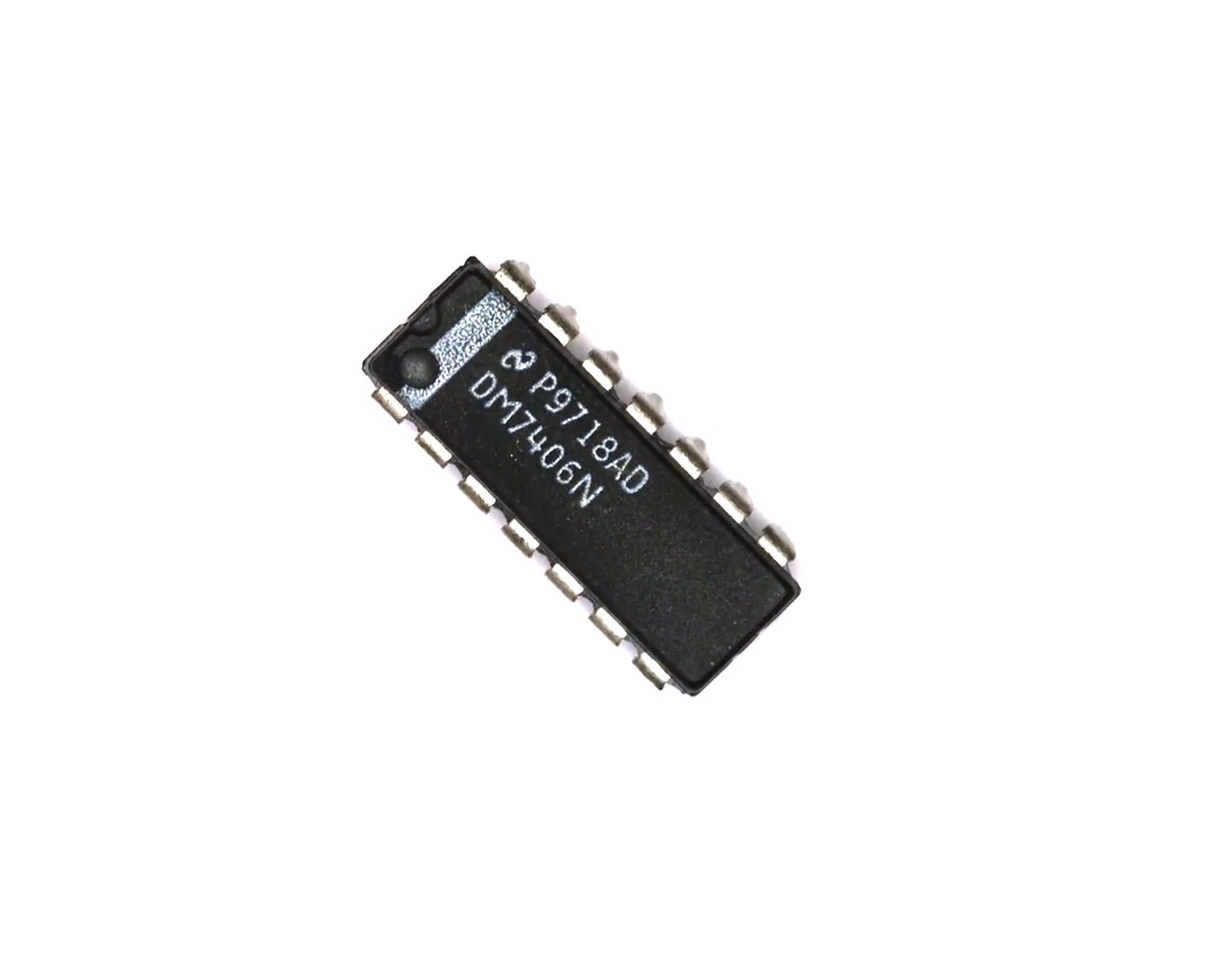IC: (334, 223, 834, 729)
notch: (401, 295, 448, 339)
